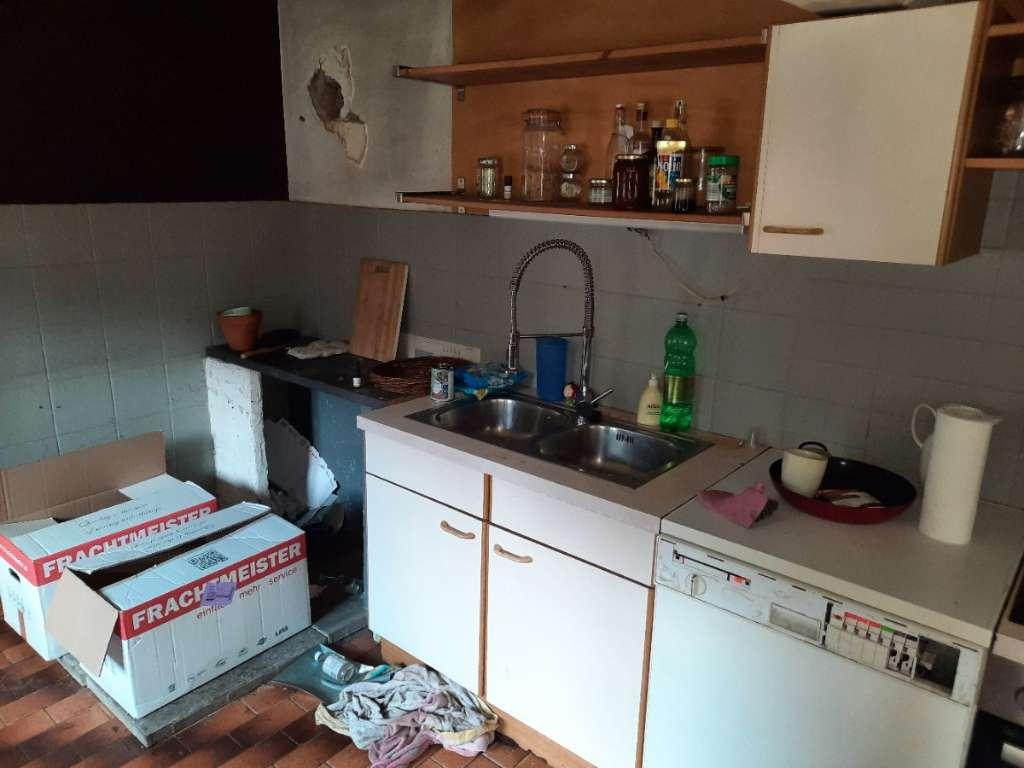cabinet_door: (767, 17, 964, 262), (485, 537, 636, 723), (370, 505, 480, 652)
handle: (763, 217, 833, 241), (495, 539, 537, 570), (435, 518, 475, 546)
